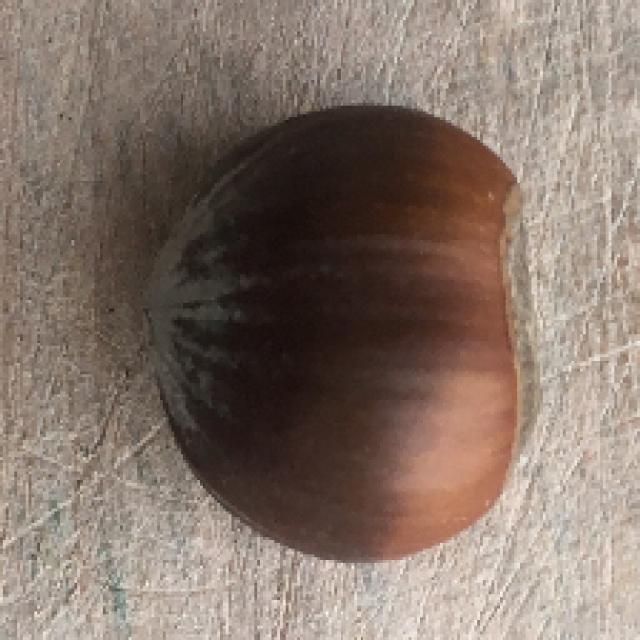DamagedHazelnut: (143, 105, 549, 564)
